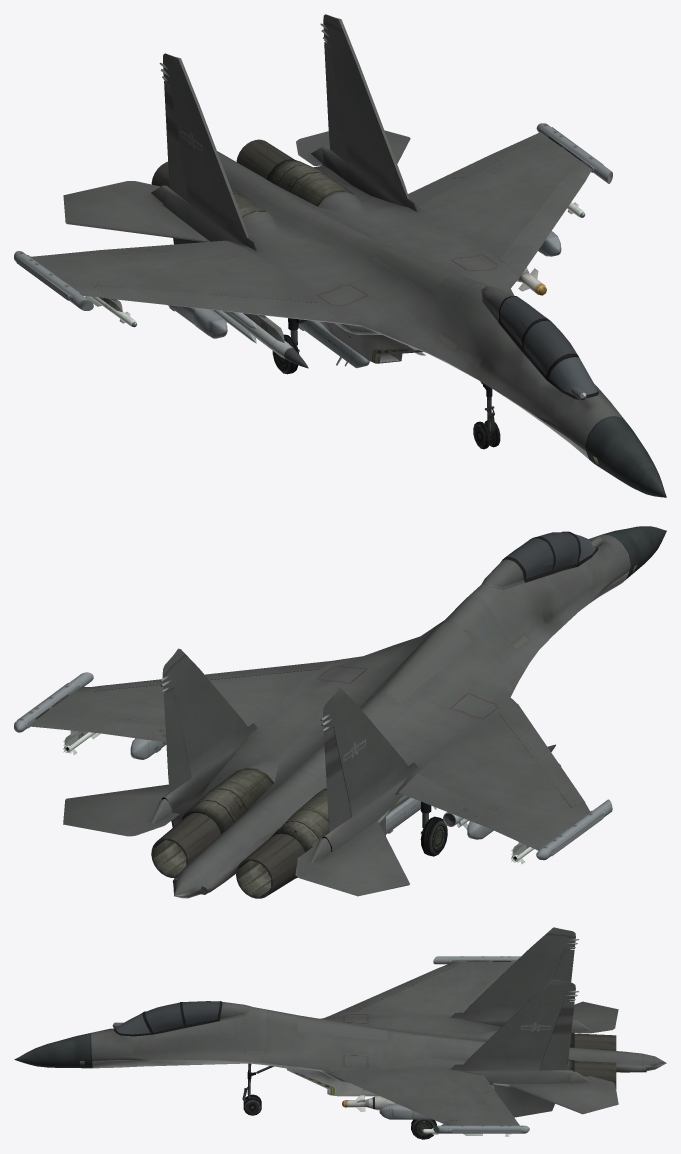
The picture shows the model from 3 angles, top to bottom: view 1: azimuth 30°, elevation 25°; view 2: azimuth 150°, elevation 25°; view 3: azimuth 270°, elevation 25°; orthographic projection. The views are drawn at different scales.
Visible parts, largest first — view 1: $body, $steering_wheel3, canopy5, $wing0, $steering_wheel0, $steering_wheel1, $weapon4, $steering_wheel4, $steering_wheel2, canopy1, canopy0, $steering_wheel5 (+1 smaller); view 2: $body, $steering_wheel3, $steering_wheel2, $wing0, canopy5, $steering_wheel5, $steering_wheel0, $steering_wheel1, canopy0, $lg1, $steering_wheel4; view 3: $body, $steering_wheel2, canopy5, $steering_wheel0, $wing0, $steering_wheel3, canopy0, $steering_wheel4, $weapon5, $lg0, $steering_wheel1, canopy1 (+1 smaller).
Part boxes in pixels (x1=…): $body: x1=14, y1=14, x2=666, y2=497; $steering_wheel3: x1=63, y1=181, x2=206, y2=241; canopy5: x1=500, y1=296, x2=577, y2=375; $wing0: x1=371, y1=247, x2=459, y2=294; $steering_wheel0: x1=324, y1=42, x2=349, y2=164; $steering_wheel1: x1=164, y1=81, x2=188, y2=203; $weapon4: x1=213, y1=310, x2=308, y2=368; $steering_wheel4: x1=408, y1=155, x2=500, y2=206; $steering_wheel2: x1=296, y1=130, x2=410, y2=165; canopy1: x1=549, y1=357, x2=597, y2=394; canopy0: x1=481, y1=286, x2=578, y2=380; $steering_wheel5: x1=100, y1=240, x2=244, y2=255; $body: x1=14, y1=526, x2=666, y2=898; $steering_wheel3: x1=295, y1=821, x2=409, y2=896; $steering_wheel2: x1=63, y1=784, x2=179, y2=836; $wing0: x1=371, y1=622, x2=472, y2=703; canopy5: x1=505, y1=532, x2=578, y2=578; $steering_wheel5: x1=398, y1=773, x2=500, y2=828; $steering_wheel0: x1=163, y1=688, x2=191, y2=792; $steering_wheel1: x1=323, y1=727, x2=351, y2=831; canopy0: x1=481, y1=531, x2=580, y2=589; $lg1: x1=420, y1=801, x2=447, y2=856; $steering_wheel4: x1=100, y1=722, x2=166, y2=742; $body: x1=14, y1=927, x2=666, y2=1133; $steering_wheel2: x1=510, y1=1071, x2=618, y2=1114; canopy5: x1=145, y1=1001, x2=219, y2=1032; $steering_wheel0: x1=539, y1=1001, x2=574, y2=1070; $wing0: x1=298, y1=1015, x2=386, y2=1040; $steering_wheel3: x1=571, y1=1001, x2=618, y2=1033; canopy0: x1=143, y1=1001, x2=253, y2=1034; $steering_wheel4: x1=459, y1=1071, x2=506, y2=1107; $weapon5: x1=342, y1=1095, x2=396, y2=1111; $lg0: x1=242, y1=1063, x2=261, y2=1115; $steering_wheel1: x1=553, y1=949, x2=574, y2=982; canopy1: x1=115, y1=1013, x2=150, y2=1034.
Size of the model in its own units: 1485 by 645 by 2368.
Materials: 1 (1 with a texture image).
